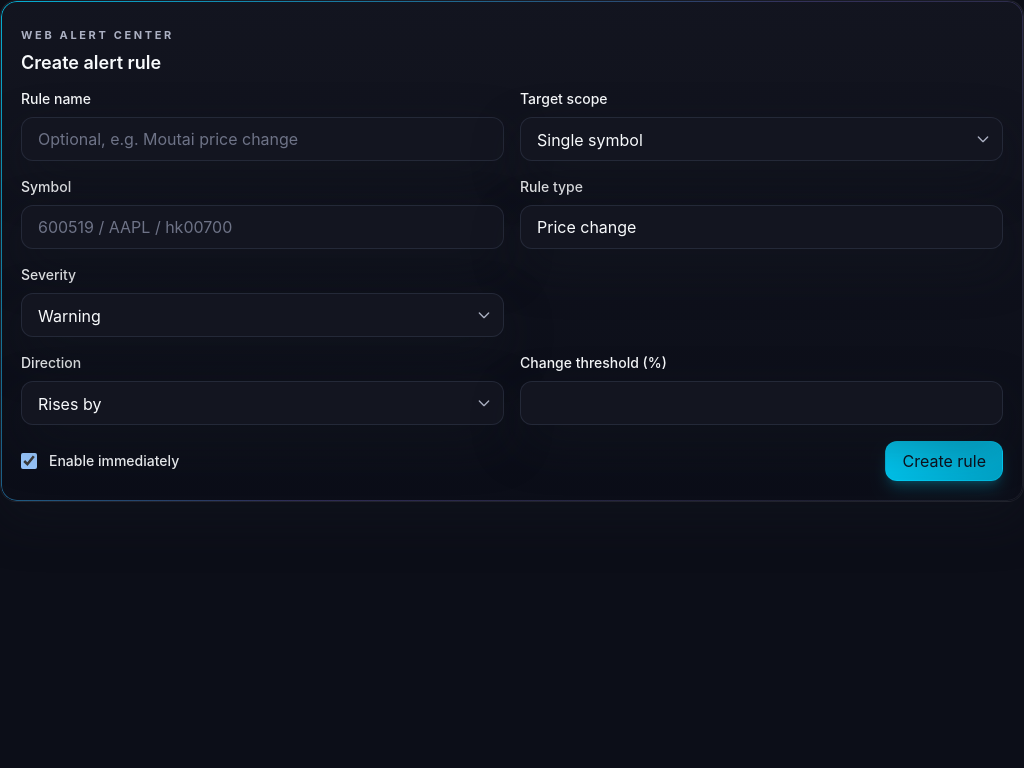
Scenario: AlertRuleForm › shows only price change controls and positive percentage validation in English
Expected: the field labelled "Rule type" holds "Price change", [520, 205, 1003, 249]
Expected: the number of number fields is 1, [520, 381, 1003, 425]
In the field labelled "Symbol": [262, 227] box [21, 205, 504, 249], type "AAPL"
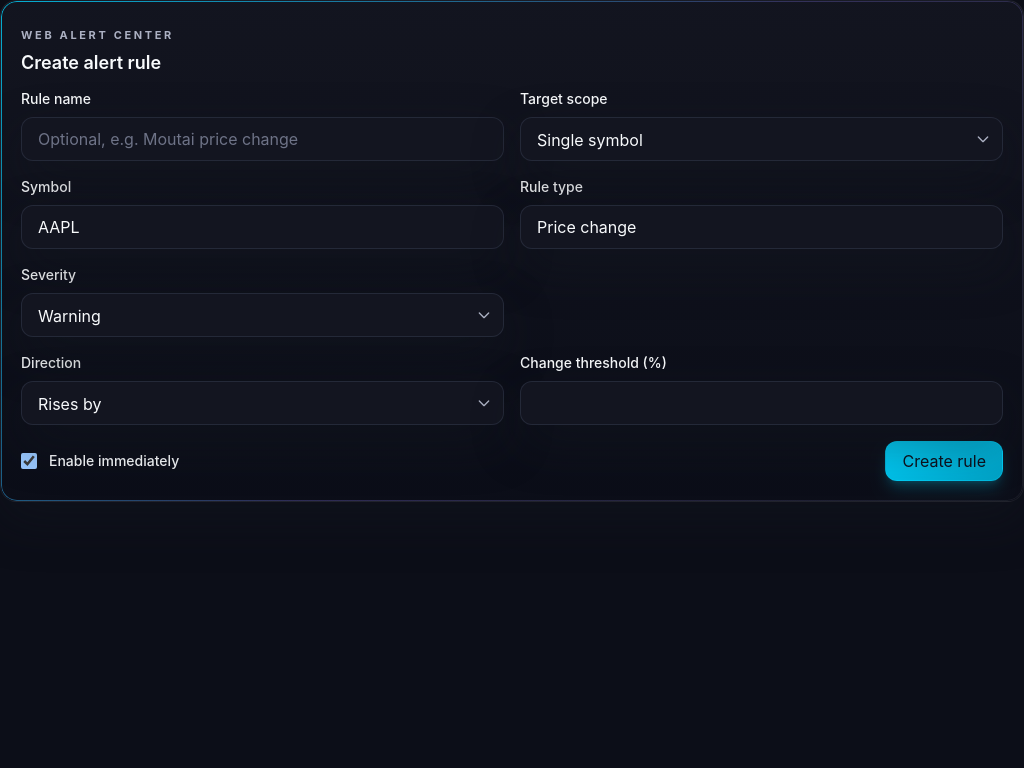
In the number field labelled "Change threshold (%)": [762, 403] box [520, 381, 1003, 425], type "-2"
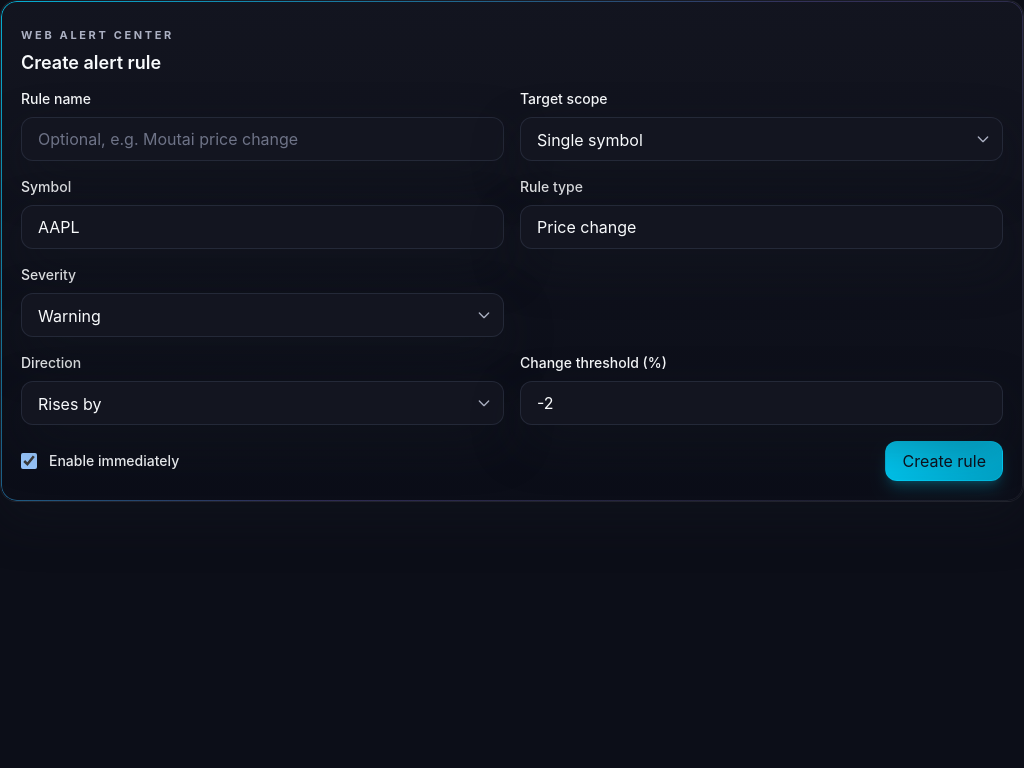
Click the button "Create rule": [944, 461] box [886, 441, 1003, 481]
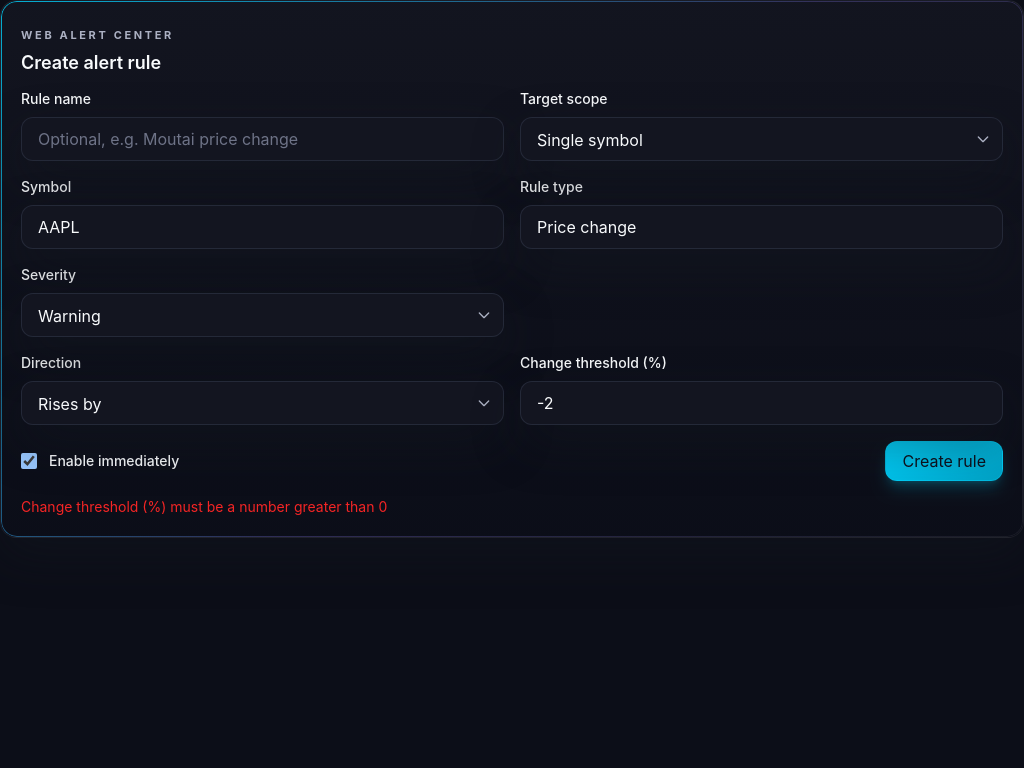
Expected: the message reads "Change threshold (%) must be a number greater than 0", [21, 498, 387, 515]
